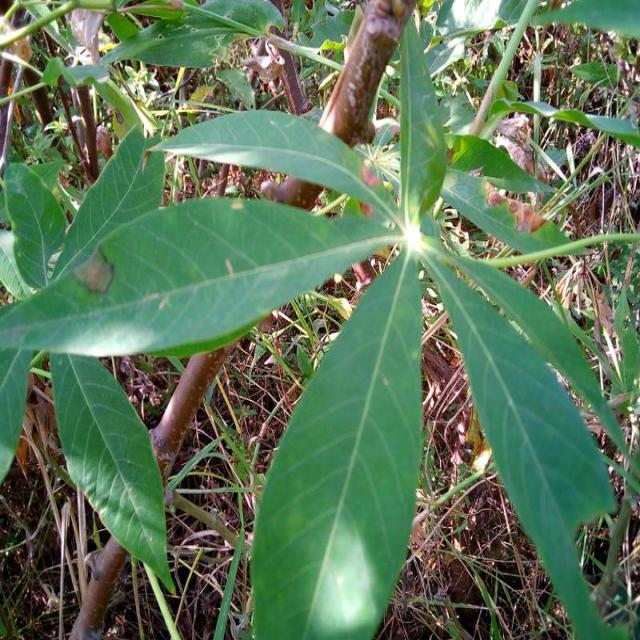cassava leaf: (1, 1, 633, 638), (417, 227, 620, 638), (250, 244, 424, 638), (0, 192, 402, 358), (48, 350, 175, 594)
